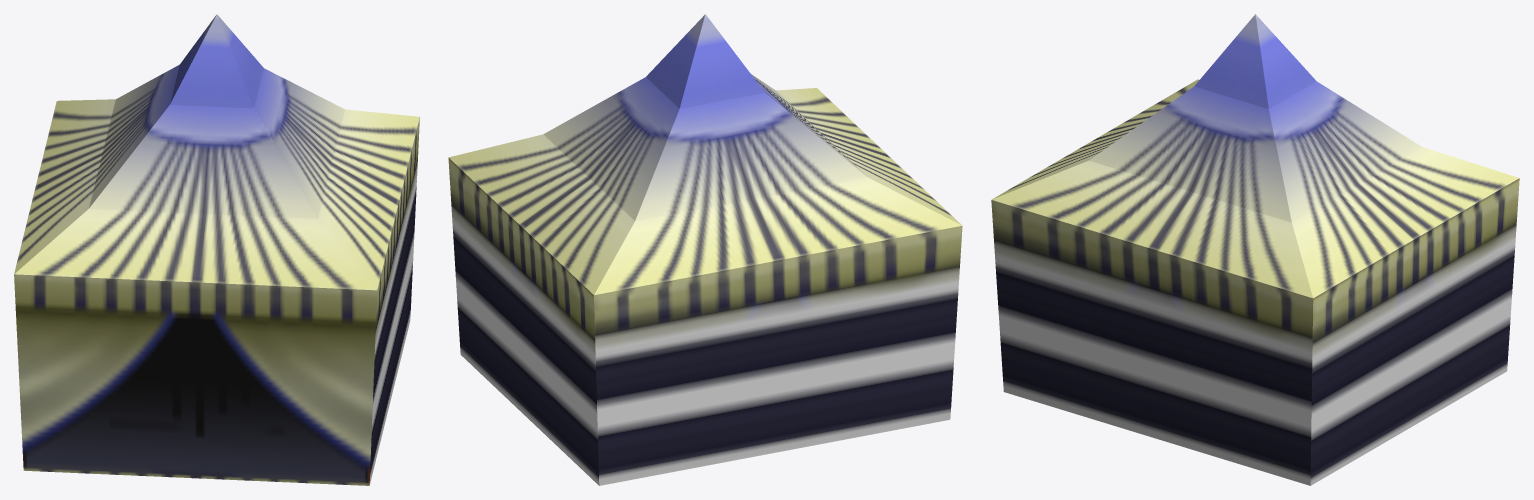
File: SquareTent.fbx
The picture shows the model from 3 angles, left to right: view 1: azimuth 30°, elevation 25°; view 2: azimuth 150°, elevation 25°; view 3: azimuth 270°, elevation 25°; orthographic projection. The views are drawn at different scales.
Parts seen in each view (by area): view 1: SquareTent3; view 2: SquareTent3; view 3: SquareTent3.
Boxes of the visible parts, bbox=[...] form: SquareTent3: bbox=[14, 14, 419, 485]; SquareTent3: bbox=[448, 14, 962, 485]; SquareTent3: bbox=[991, 14, 1519, 485].
Size of the model in its own units: 5.14 by 4.03 by 5.24.
